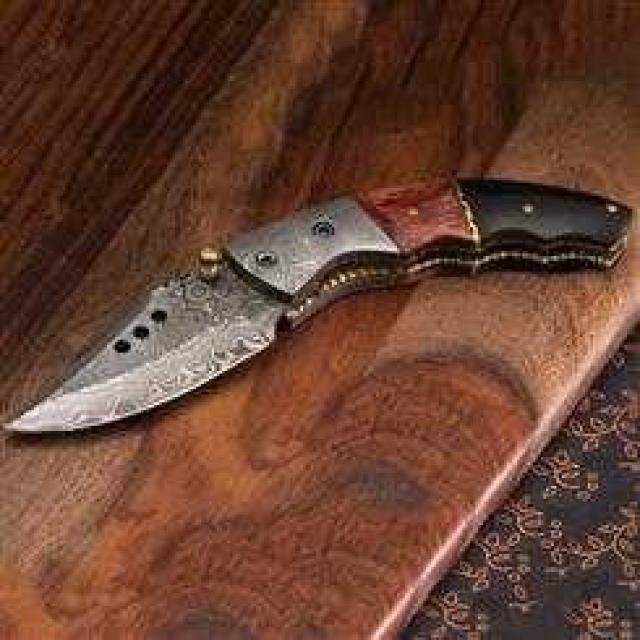Knife: (0, 172, 638, 453)
